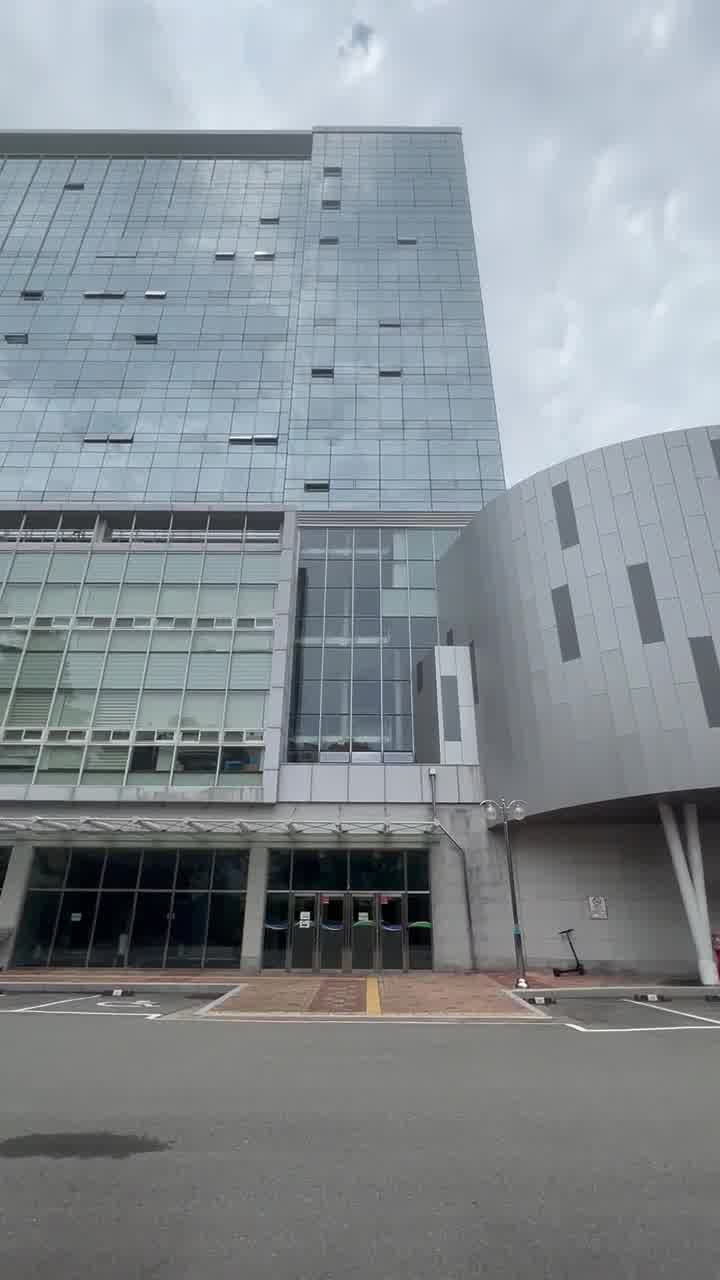medium: (0, 48, 516, 964)
